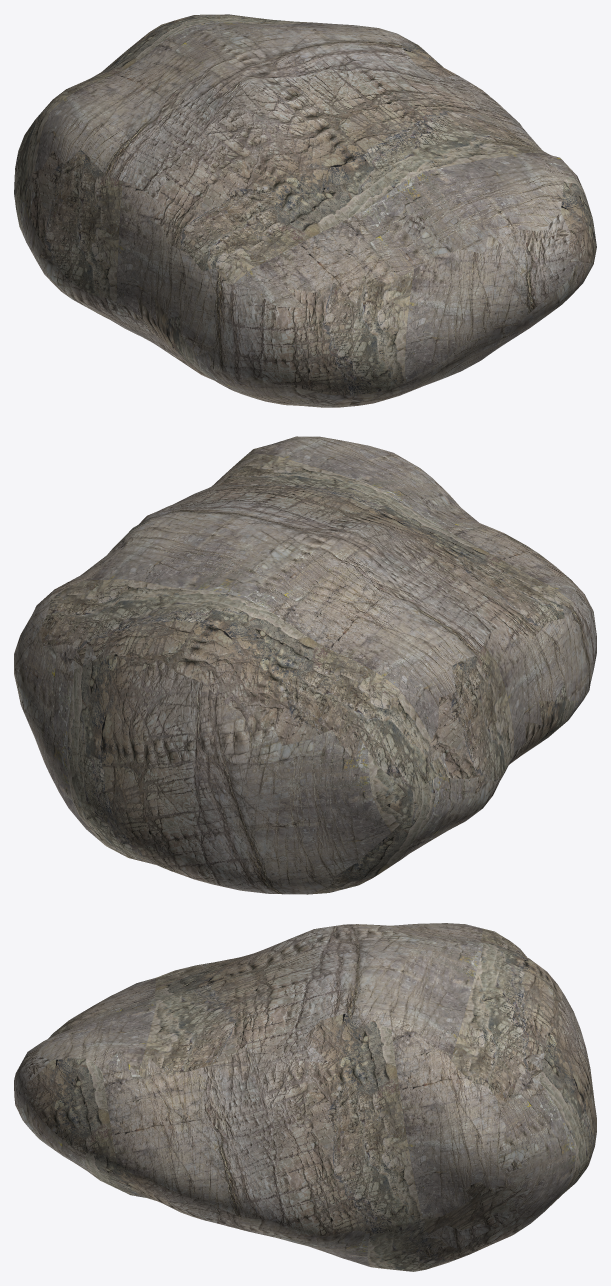
The model's file is stone_b_1.fbx.
3 views of the same model, one above another, from view 1: azimuth 30°, elevation 25°; view 2: azimuth 150°, elevation 25°; view 3: azimuth 270°, elevation 25° (orthographic). The views are drawn at different scales.
Parts seen in each view (by area): view 1: Sphere; view 2: Sphere; view 3: Sphere.
Part boxes in pixels (x1,y1,x2,y2): Sphere: (14,14,596,407); Sphere: (14,436,596,894); Sphere: (14,923,596,1271).
Bounding box in the file's own units: 1743 × 1212 × 2229.
1 material, 1 textured.
